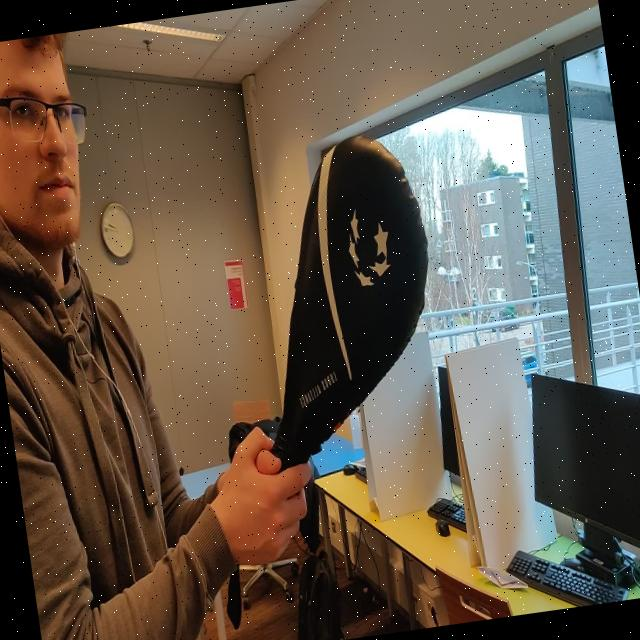paddle: (271, 138, 428, 468)
